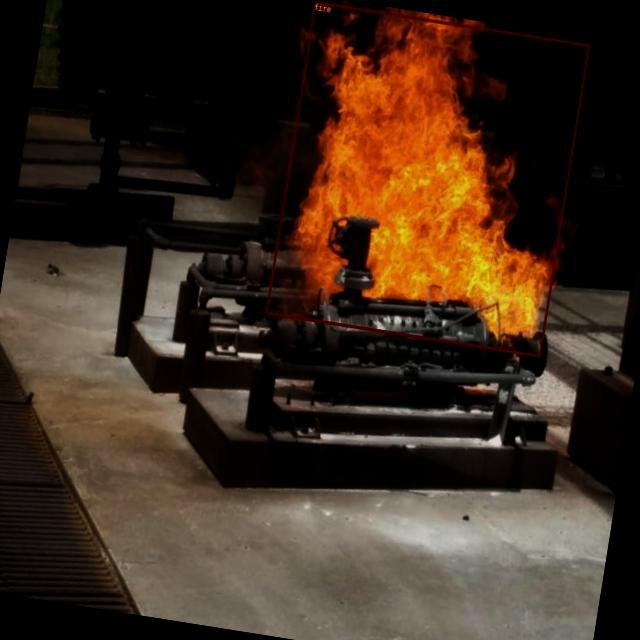fire: (265, 0, 589, 357)
